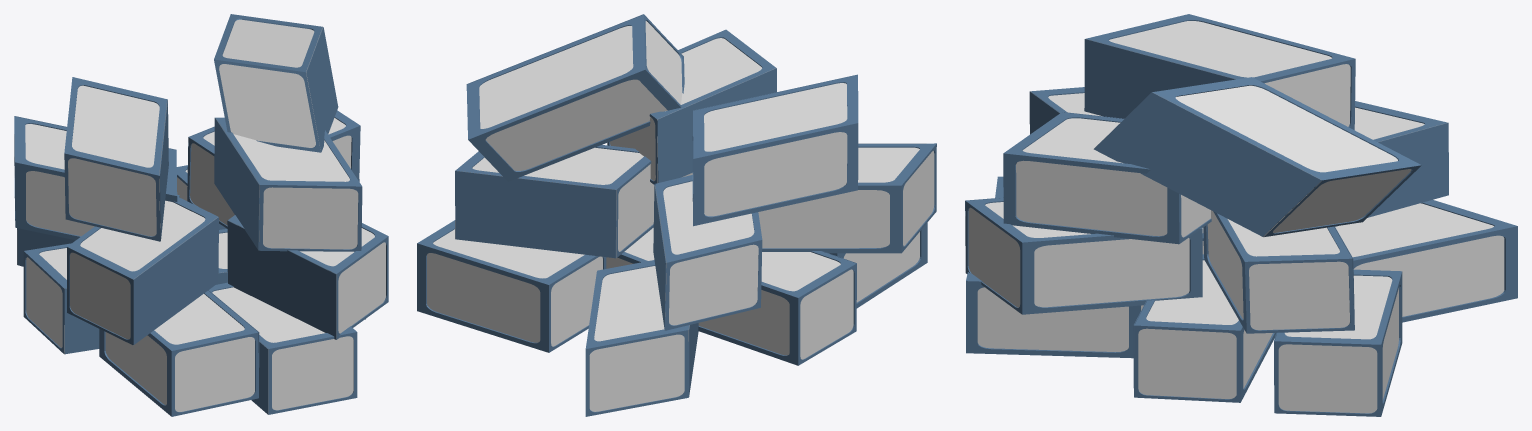
File: bunchofboxes.fbx
The picture shows the model from 3 angles, left to right: view 1: azimuth 30°, elevation 25°; view 2: azimuth 150°, elevation 25°; view 3: azimuth 270°, elevation 25°; orthographic projection. The views are drawn at different scales.
Parts seen in each view (by area): view 1: box.032, box.035, box.006, box.007, box.030, box.004, box.003, box.034, box.025, box.005, box.027, box.001 (+1 smaller); view 2: box.007, box.035, box.005, box.002, box.032, box.027, box.034, box.025, box.006, box.030, box.001; view 3: box.007, box.035, box.004, box.006, box.027, box.005, box.002, box.001, box.003, box.034, box.032.
Part boxes in pixels (box(x1,y1,x2,y2)): box.032: box(67, 196, 218, 345); box.035: box(64, 77, 168, 241); box.006: box(214, 117, 362, 251); box.007: box(214, 14, 338, 152); box.030: box(99, 290, 259, 416); box.004: box(227, 215, 388, 339); box.003: box(209, 282, 357, 414); box.034: box(14, 116, 177, 240); box.025: box(23, 243, 99, 354); box.005: box(187, 110, 360, 228); box.027: box(17, 194, 179, 266); box.001: box(216, 229, 365, 319); box.007: box(466, 14, 684, 181); box.035: box(692, 74, 858, 226); box.005: box(455, 145, 654, 258); box.002: box(417, 220, 606, 352); box.032: box(758, 143, 936, 253); box.027: box(585, 260, 698, 416); box.034: box(653, 175, 762, 330); box.025: box(698, 251, 856, 365); box.006: box(607, 29, 776, 184); box.030: box(829, 223, 927, 308); box.001: box(606, 228, 654, 268); box.007: box(1093, 77, 1421, 237); box.035: box(1084, 14, 1355, 129); box.004: box(965, 197, 1202, 314); box.006: box(1003, 112, 1211, 244); box.027: box(1335, 200, 1517, 322); box.005: box(1203, 210, 1354, 333); box.002: box(1274, 269, 1402, 416); box.001: box(1133, 254, 1275, 402); box.003: box(966, 272, 1143, 358); box.034: box(1335, 101, 1448, 226); box.032: box(1029, 87, 1101, 134).
Size of the model in its own units: 626 by 423 by 759.
